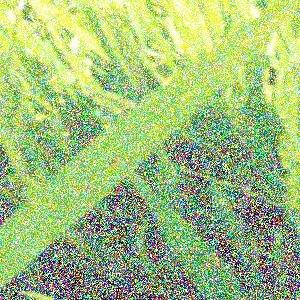Bacterial_Leaf_Blight: (212, 61, 227, 73), (106, 156, 120, 168), (81, 183, 95, 195), (159, 124, 172, 135), (140, 104, 153, 115)
